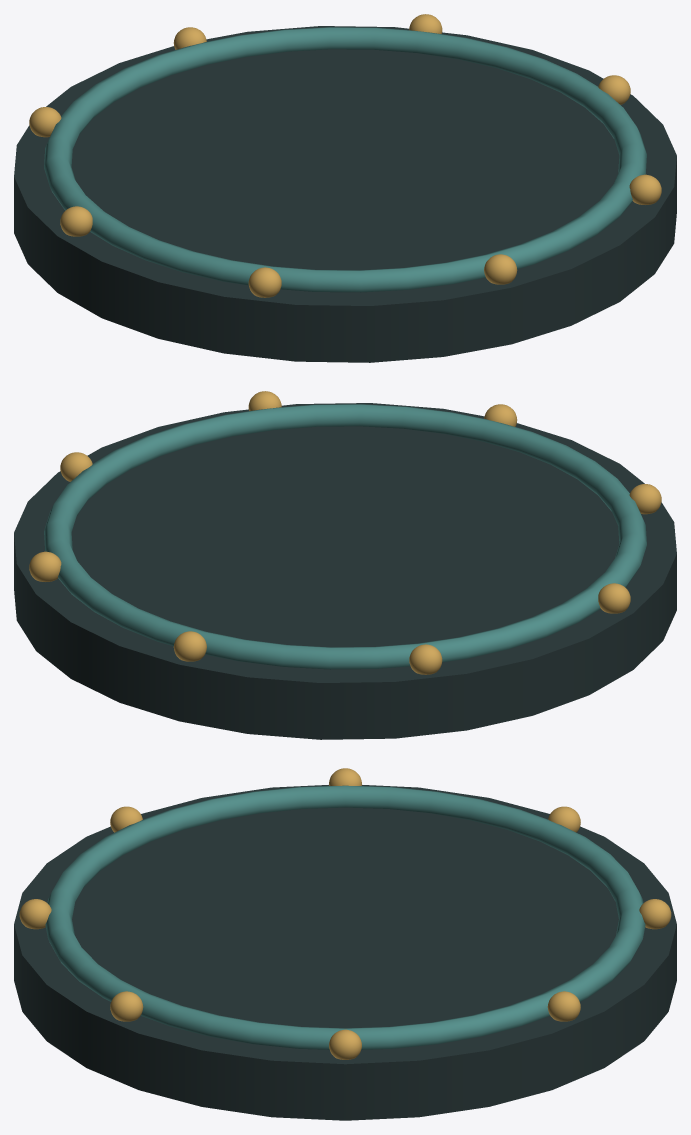
File: wp-plateforme-de-teleportation.glb
3 views of the same model, one above another, from view 1: azimuth 30°, elevation 25°; view 2: azimuth 150°, elevation 25°; view 3: azimuth 270°, elevation 25° (orthographic).
Visible parts, largest first — view 1: wp-plateforme-de-teleportation; view 2: wp-plateforme-de-teleportation; view 3: wp-plateforme-de-teleportation.
Boxes of the visible parts, x1,y1,x2,y2 form: wp-plateforme-de-teleportation: (14,14,676,362); wp-plateforme-de-teleportation: (14,391,676,739); wp-plateforme-de-teleportation: (14,768,676,1120).
Bounding box in the file's own units: 1.5 × 0.2 × 1.5.
